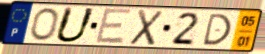2: (168, 12, 202, 47)
D: (201, 13, 233, 47)
E: (94, 6, 134, 45)
O: (29, 7, 60, 43)
U: (52, 6, 98, 45)
X: (128, 8, 165, 47)
